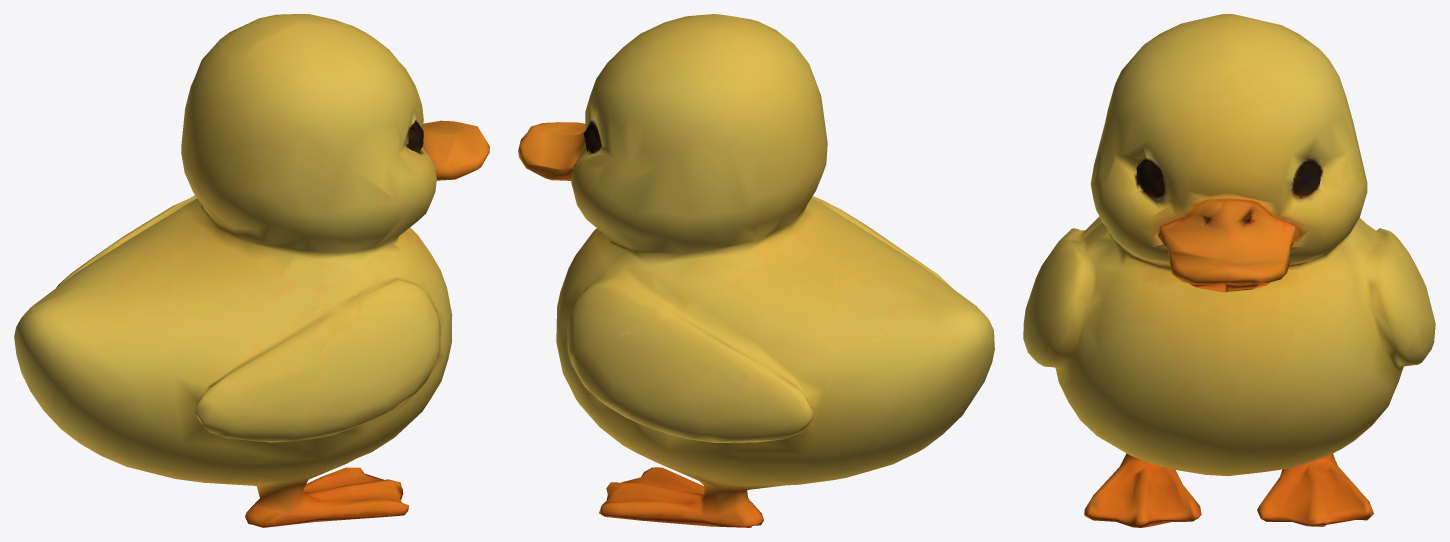
Rendered from duck.glb.
3 views of the same model, side by side, from view 1: azimuth 30°, elevation 25°; view 2: azimuth 150°, elevation 25°; view 3: azimuth 270°, elevation 25° (orthographic). The views are drawn at different scales.
Parts seen in each view (by area): view 1: tripo_node_c74b967e-767d-45e9-a09f-d87a47bbcc23; view 2: tripo_node_c74b967e-767d-45e9-a09f-d87a47bbcc23; view 3: tripo_node_c74b967e-767d-45e9-a09f-d87a47bbcc23.
Boxes of the visible parts, x1=… form: tripo_node_c74b967e-767d-45e9-a09f-d87a47bbcc23: x1=14, y1=14, x2=489, y2=527; tripo_node_c74b967e-767d-45e9-a09f-d87a47bbcc23: x1=518, y1=14, x2=994, y2=527; tripo_node_c74b967e-767d-45e9-a09f-d87a47bbcc23: x1=1023, y1=14, x2=1435, y2=527.
Bounding box in the file's own units: 0.9996 × 0.9433 × 0.7472.
Materials: 1 (1 with a texture image).
